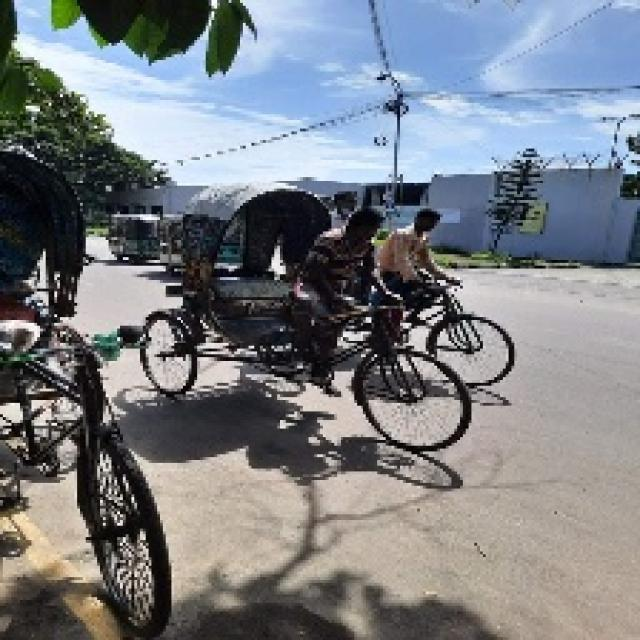rickshaw: (12, 142, 186, 602), (176, 186, 470, 451)
